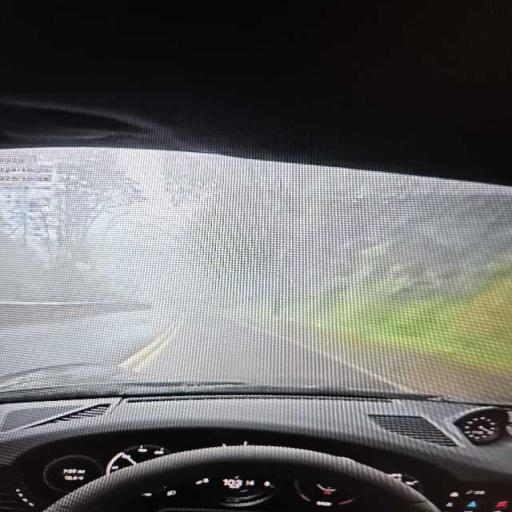car: (0, 0, 511, 511)
lane: (0, 149, 511, 393), (122, 313, 411, 392)
